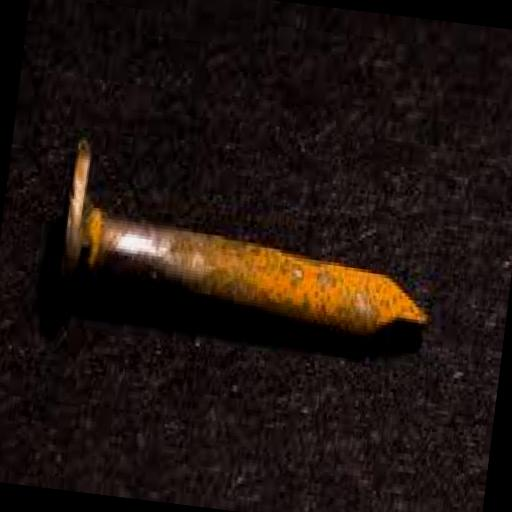corrosion: (15, 142, 437, 443)
